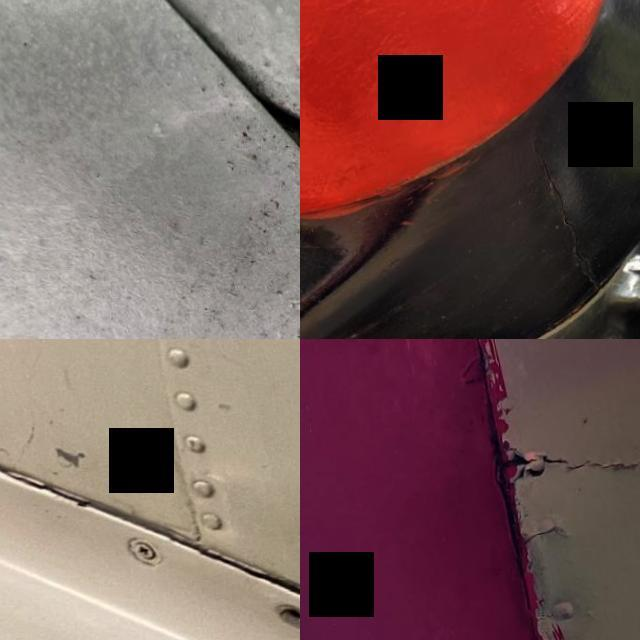Crack: (512, 128, 622, 304), (482, 439, 640, 502), (511, 518, 562, 556)
Missing_Fastener: (270, 609, 300, 632)
